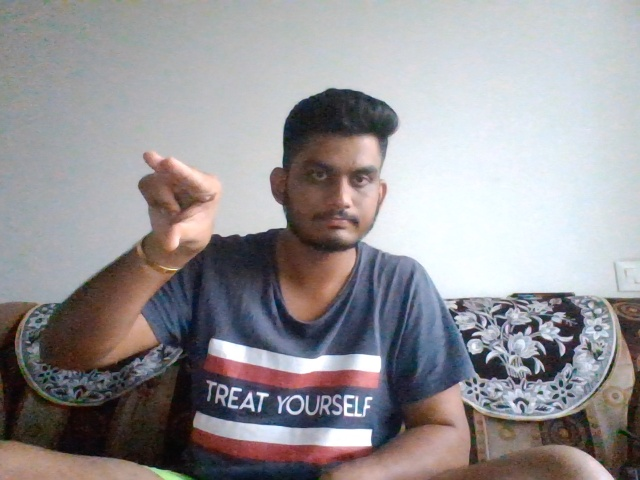No: (115, 149, 229, 263)
